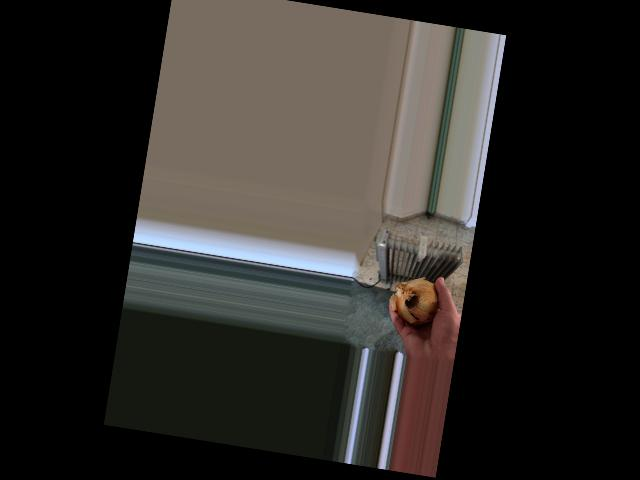onion: (391, 273, 444, 337)
